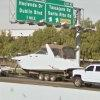Boat: (15, 41, 81, 76)
